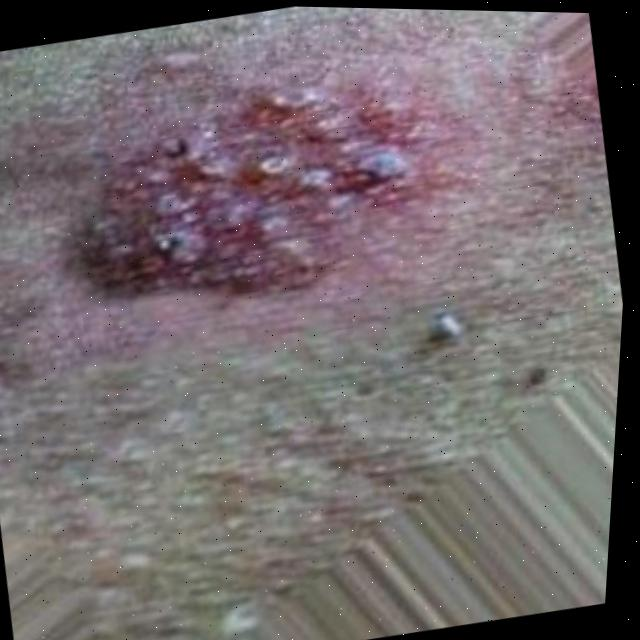Shingles: (39, 56, 438, 330)
